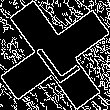L_NW: (28, 25, 82, 85)
